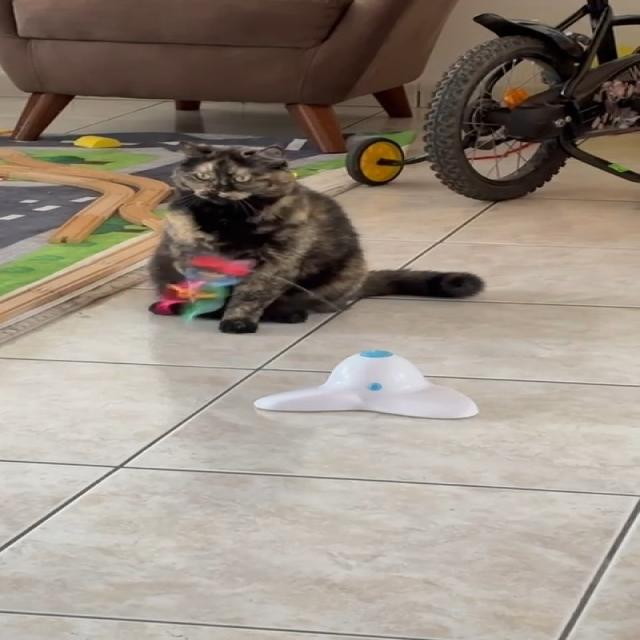authorized: (148, 140, 485, 333)
